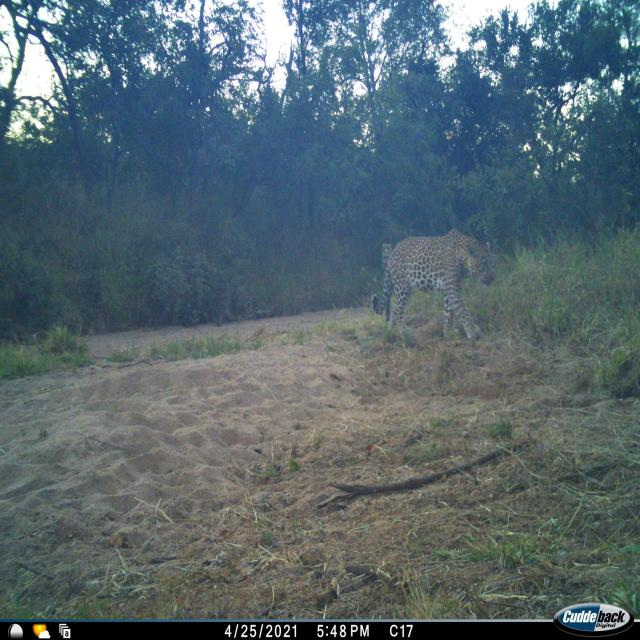Leopard: (362, 229, 495, 343)
